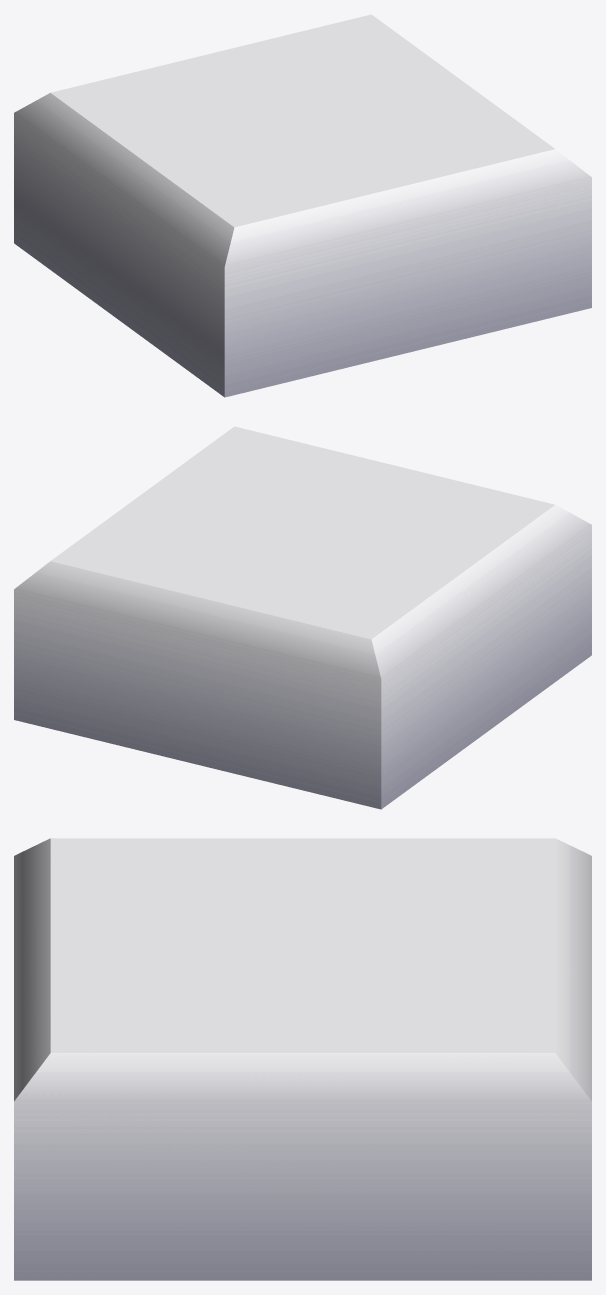
The model's file is brick-kit--none-hq-plate-1x1.glb.
3 renders of one model, top to bottom at view 1: azimuth 30°, elevation 25°; view 2: azimuth 150°, elevation 25°; view 3: azimuth 270°, elevation 25°, orthographic. The views are drawn at different scales.
Parts seen in each view (by area): view 1: none-hq-plate-1x1; view 2: none-hq-plate-1x1; view 3: none-hq-plate-1x1.
Boxes of the visible parts, <box> form: none-hq-plate-1x1: <box>14,14,591,397</box>; none-hq-plate-1x1: <box>14,426,591,809</box>; none-hq-plate-1x1: <box>14,838,591,1280</box>.
Size of the model in its own units: 0.0795 by 0.032 by 0.079.
Materials: 1 (1 with a texture image).
